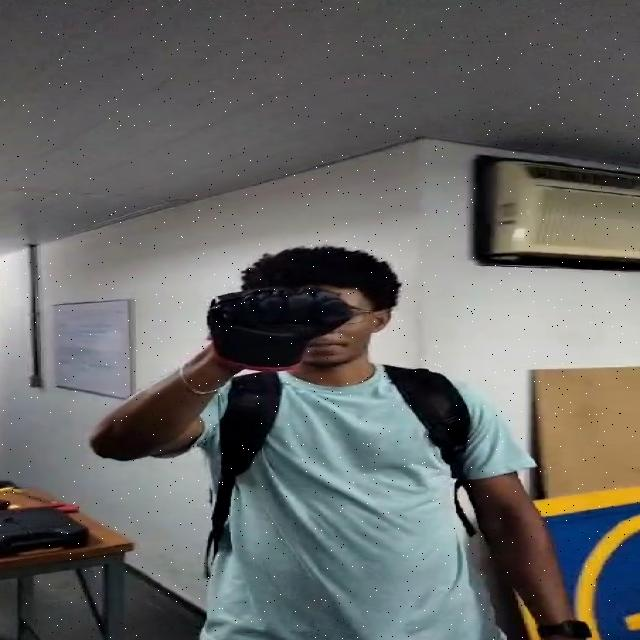Gloves: (204, 289, 354, 373)
